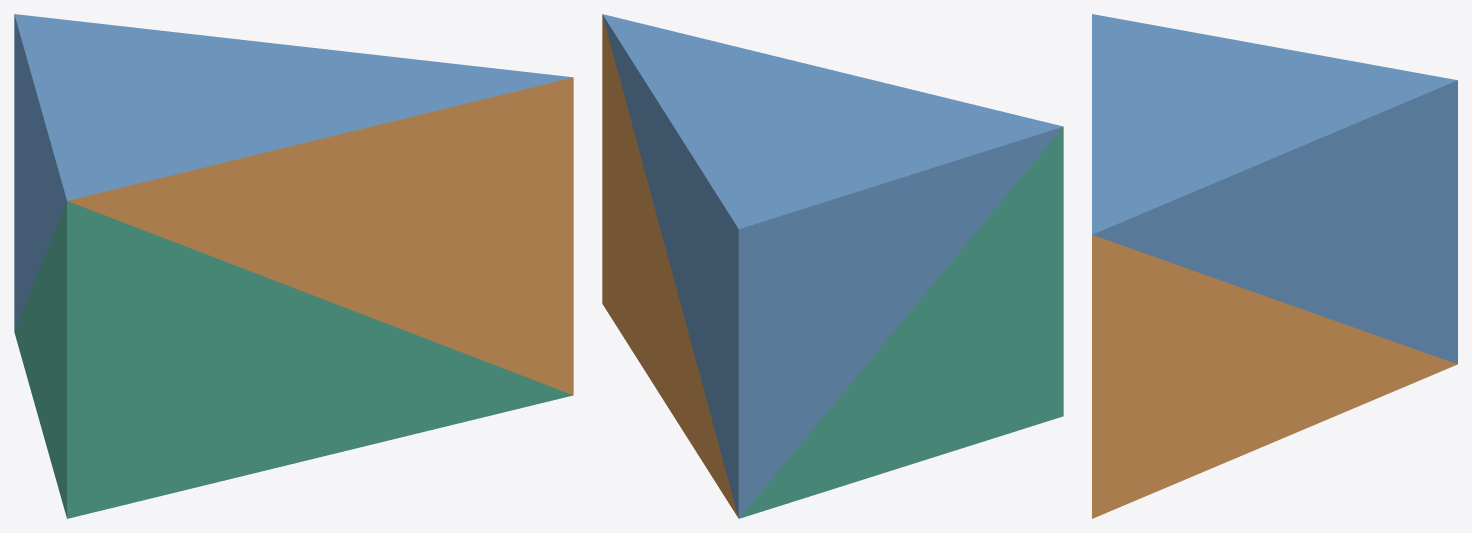
File: piramides-prisma.glb
3 views of the same model, side by side, from view 1: azimuth 30°, elevation 25°; view 2: azimuth 150°, elevation 25°; view 3: azimuth 270°, elevation 25° (orthographic). The views are drawn at different scales.
Parts seen in each view (by area): view 1: Pirâmide 1, Pirâmide 2, Pirâmide 3; view 2: Pirâmide 3, Pirâmide 1, Pirâmide 2; view 3: Pirâmide 3, Pirâmide 2.
Part boxes in pixels (x1=…): Pirâmide 1: x1=14, y1=201, x2=572, y2=518; Pirâmide 2: x1=68, y1=77, x2=573, y2=395; Pirâmide 3: x1=14, y1=14, x2=572, y2=331; Pirâmide 3: x1=602, y1=14, x2=1063, y2=518; Pirâmide 1: x1=739, y1=127, x2=1063, y2=518; Pirâmide 2: x1=602, y1=15, x2=738, y2=518; Pirâmide 3: x1=1092, y1=14, x2=1457, y2=364; Pirâmide 2: x1=1092, y1=235, x2=1457, y2=518.
Bounding box in the file's own units: 0.1 × 0.06 × 0.07.
